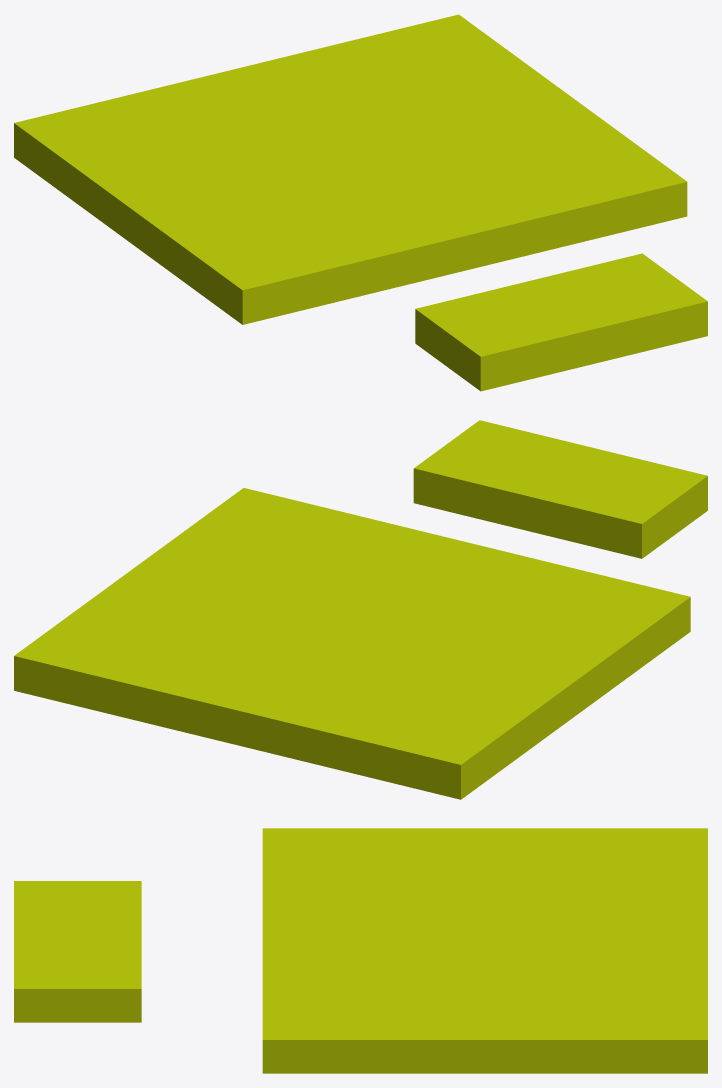
Rendered from Cottage_down.dae.
The picture shows the model from 3 angles, top to bottom: view 1: azimuth 30°, elevation 25°; view 2: azimuth 150°, elevation 25°; view 3: azimuth 270°, elevation 25°; orthographic projection. The views are drawn at different scales.
Visible parts, largest first — view 1: Cube, Cube_001; view 2: Cube, Cube_001; view 3: Cube, Cube_001.
Boxes of the visible parts, x1,y1,x2,y2 form: Cube: [14, 14, 687, 324]; Cube_001: [415, 253, 707, 391]; Cube: [14, 488, 690, 799]; Cube_001: [413, 420, 707, 558]; Cube: [262, 828, 707, 1073]; Cube_001: [14, 881, 141, 1022].
Size of the model in its own units: 5.64 by 7.82 by 0.42.
